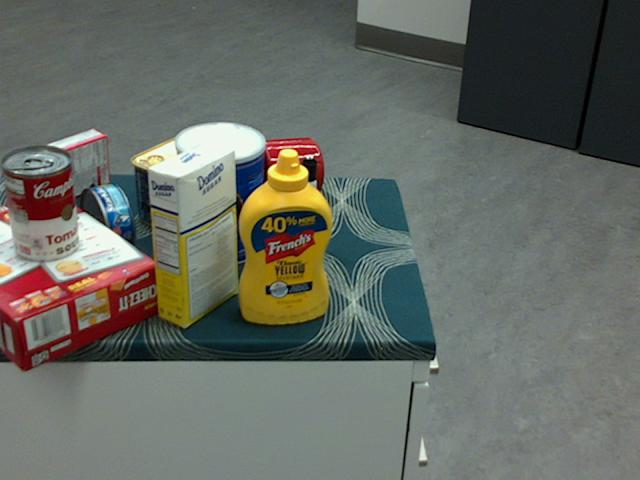cracker_box: (0, 188, 162, 370)
gelatin_box: (39, 129, 109, 204)
large_marker: (301, 156, 317, 249)
master_chef_can: (172, 121, 262, 266)
mug: (242, 135, 322, 206)
mustard_bottle: (238, 147, 333, 323)
potted_meat_can: (129, 134, 206, 228)
sugar_box: (146, 141, 238, 326)
tomato_soup_can: (1, 145, 79, 262)
tuna_fish_can: (78, 183, 133, 260)
